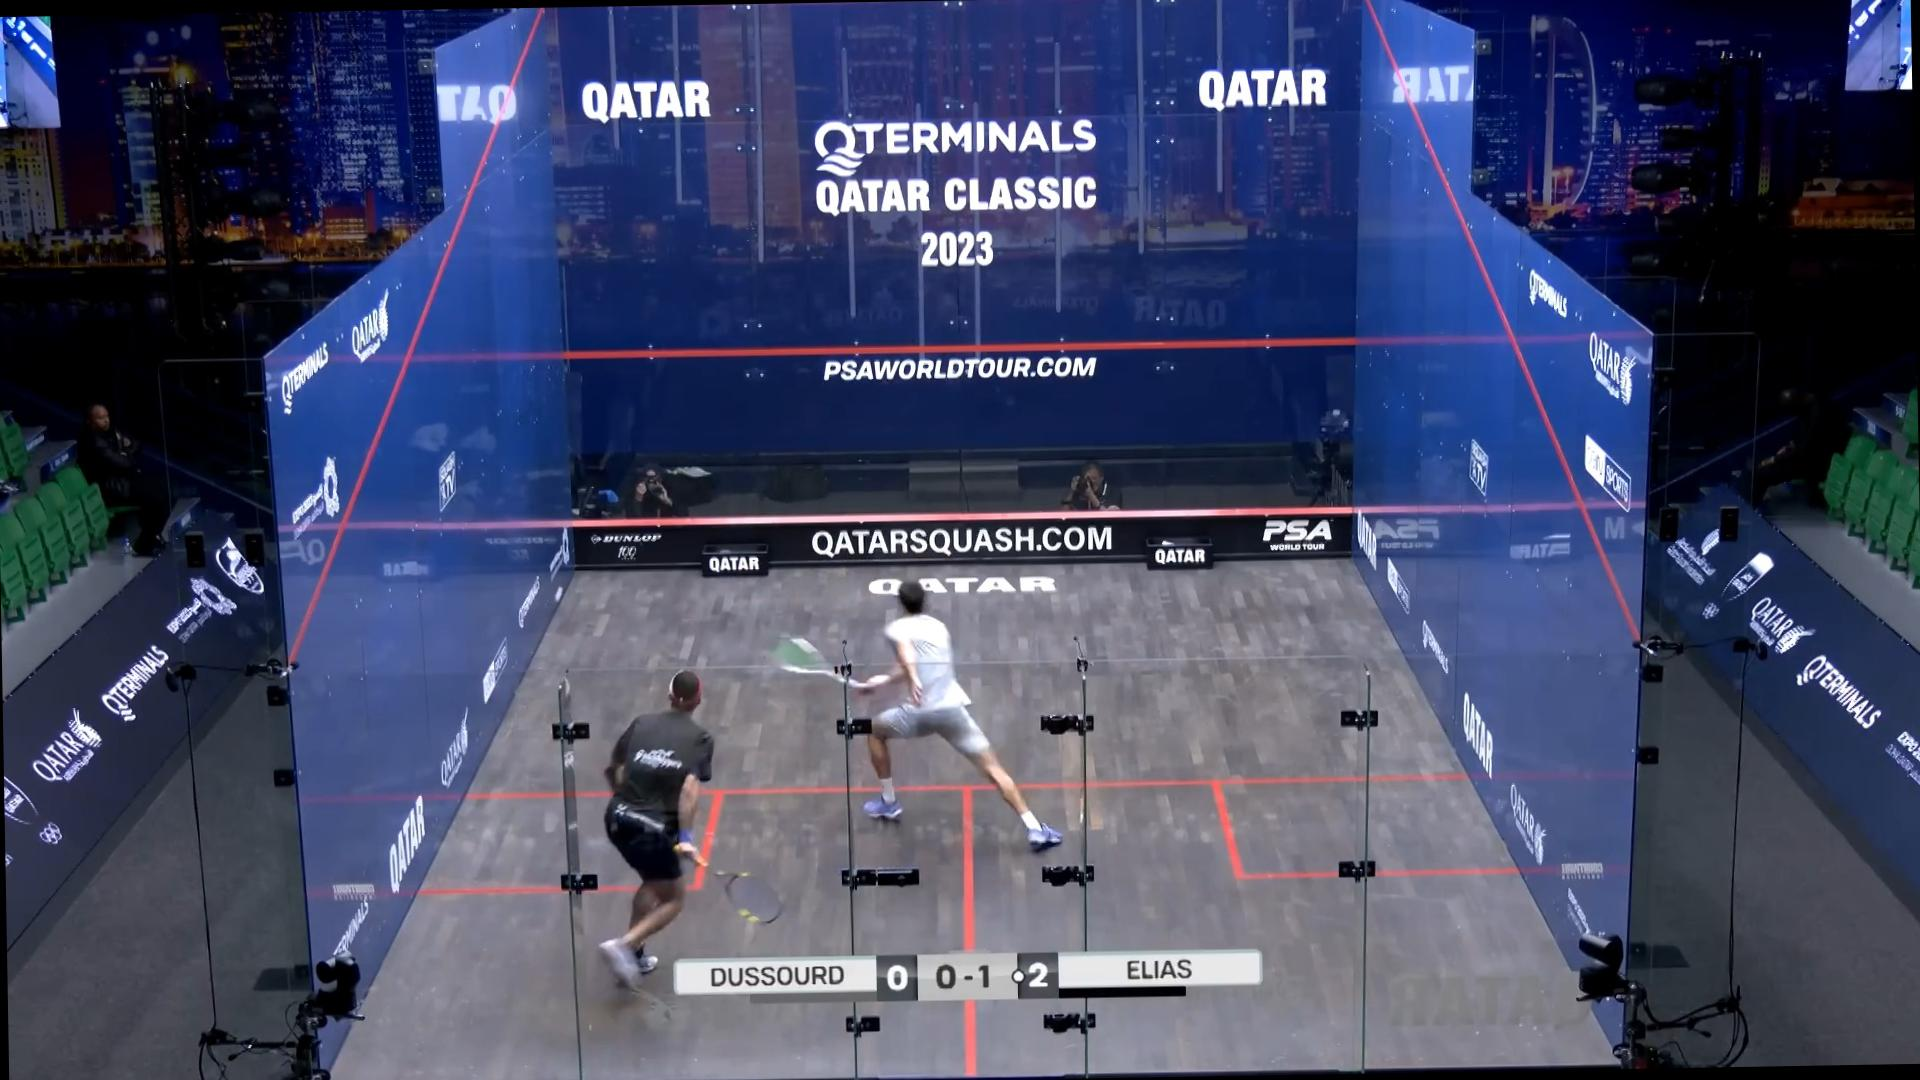Racket: (773, 620, 862, 702), (707, 844, 790, 931)
